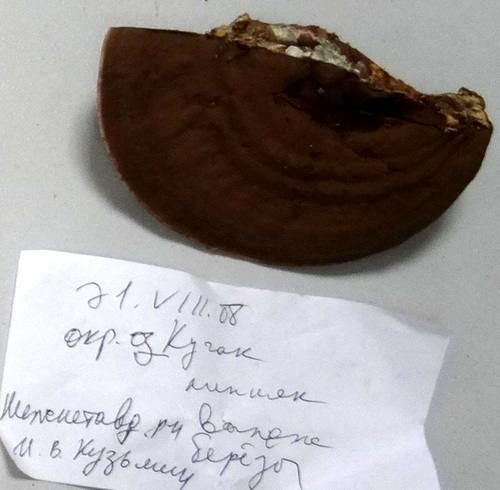Ganoderma - Fruit Body: (92, 17, 495, 267)
